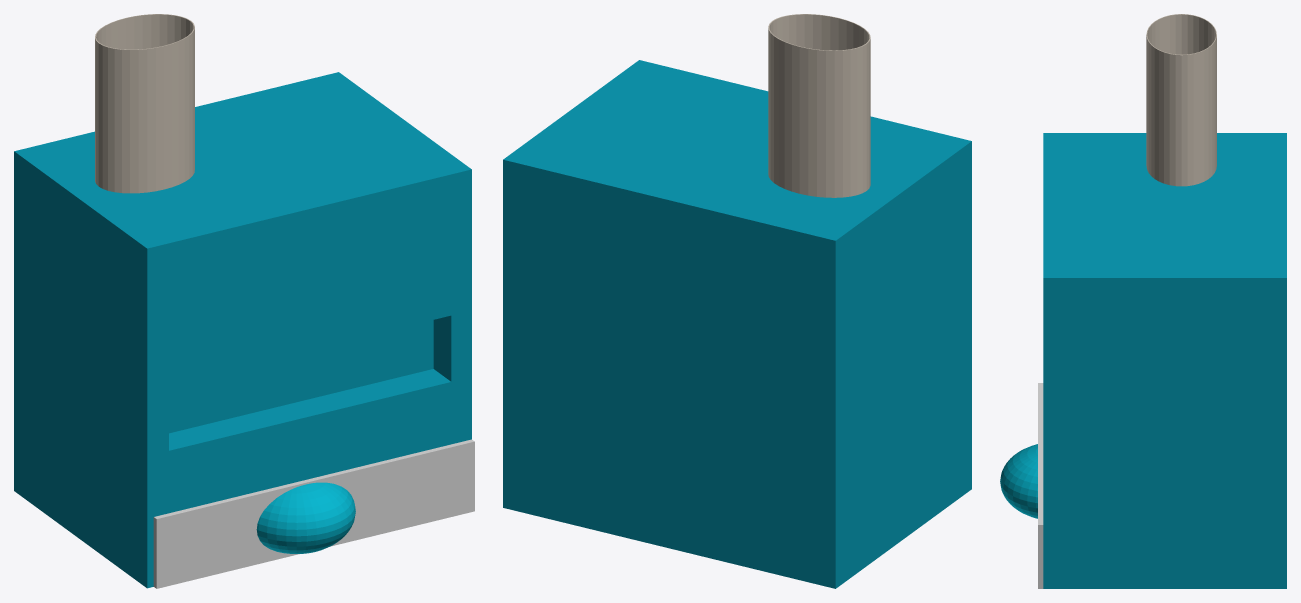
Rendered from Hem Pipariya.glb.
3 renders of one model, left to right at view 1: azimuth 30°, elevation 25°; view 2: azimuth 150°, elevation 25°; view 3: azimuth 270°, elevation 25°, orthographic. The views are drawn at different scales.
Parts seen in each view (by area): view 1: Mesh_Mesh_head_geo.001_lambert2SG.001; view 2: Mesh_Mesh_head_geo.001_lambert2SG.001; view 3: Mesh_Mesh_head_geo.001_lambert2SG.001.
Boxes of the visible parts, left/top/right/bottom form: Mesh_Mesh_head_geo.001_lambert2SG.001: left=14, top=14, right=474, bottom=588; Mesh_Mesh_head_geo.001_lambert2SG.001: left=503, top=14, right=971, bottom=588; Mesh_Mesh_head_geo.001_lambert2SG.001: left=1000, top=14, right=1286, bottom=588.
Size of the model in its own units: 63.29 by 90 by 52.9.
